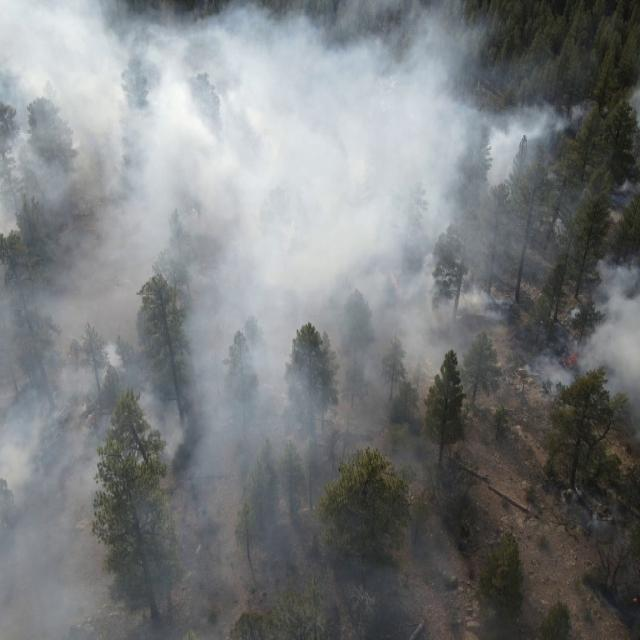smoke: (0, 0, 483, 640), (484, 59, 640, 427), (556, 463, 639, 557)
